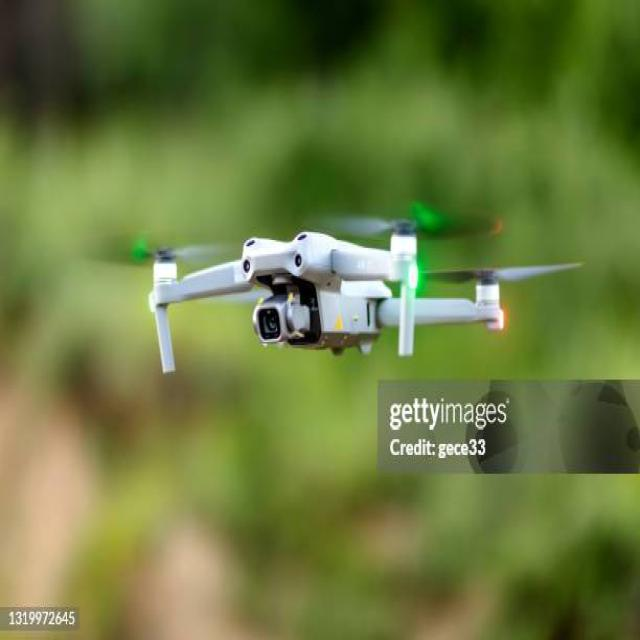UAV - Drone: (101, 182, 586, 462)
